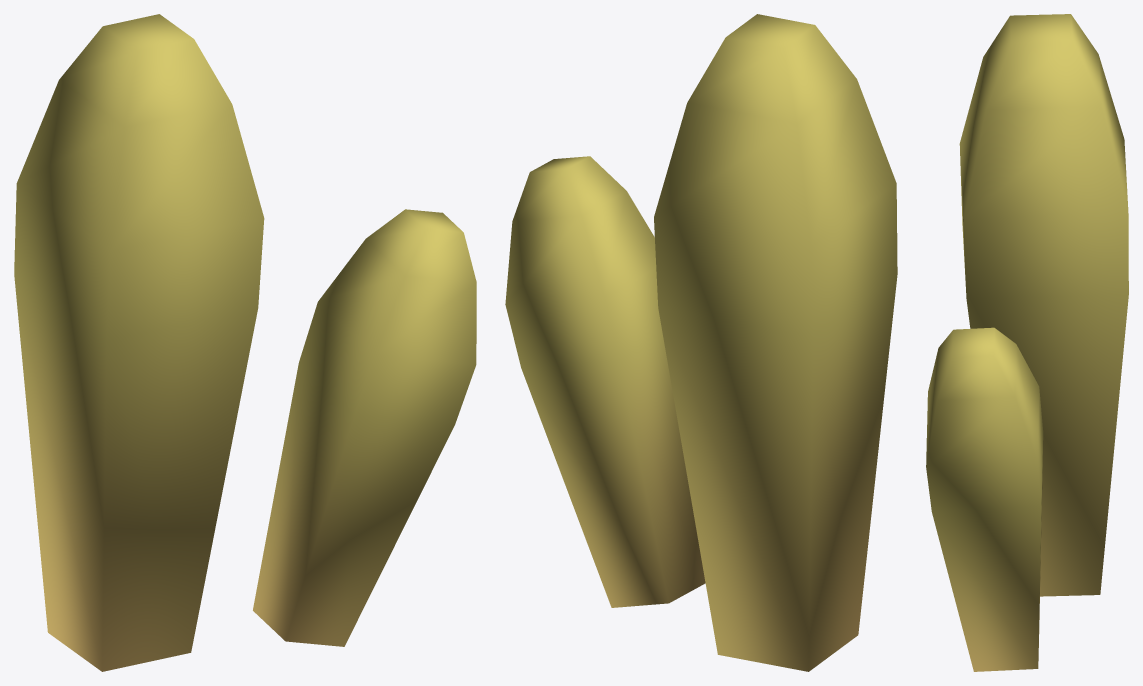
Rendered from mdl_env_1_forest_grass_a01_v01.fbx.
3 views of the same model, side by side, from view 1: azimuth 30°, elevation 25°; view 2: azimuth 150°, elevation 25°; view 3: azimuth 270°, elevation 25° (orthographic). The views are drawn at different scales.
Visible parts, largest first — view 1: mdl_env_1_forest_grass_a01_v01; view 2: mdl_env_1_forest_grass_a01_v01; view 3: mdl_env_1_forest_grass_a01_v01.
Boxes of the visible parts, box(x1,y1,x2,y2) form: mdl_env_1_forest_grass_a01_v01: box(14, 14, 476, 671); mdl_env_1_forest_grass_a01_v01: box(505, 14, 897, 671); mdl_env_1_forest_grass_a01_v01: box(926, 14, 1128, 671).
Bounding box in the file's own units: 0.9119 × 1.51 × 0.4827.
